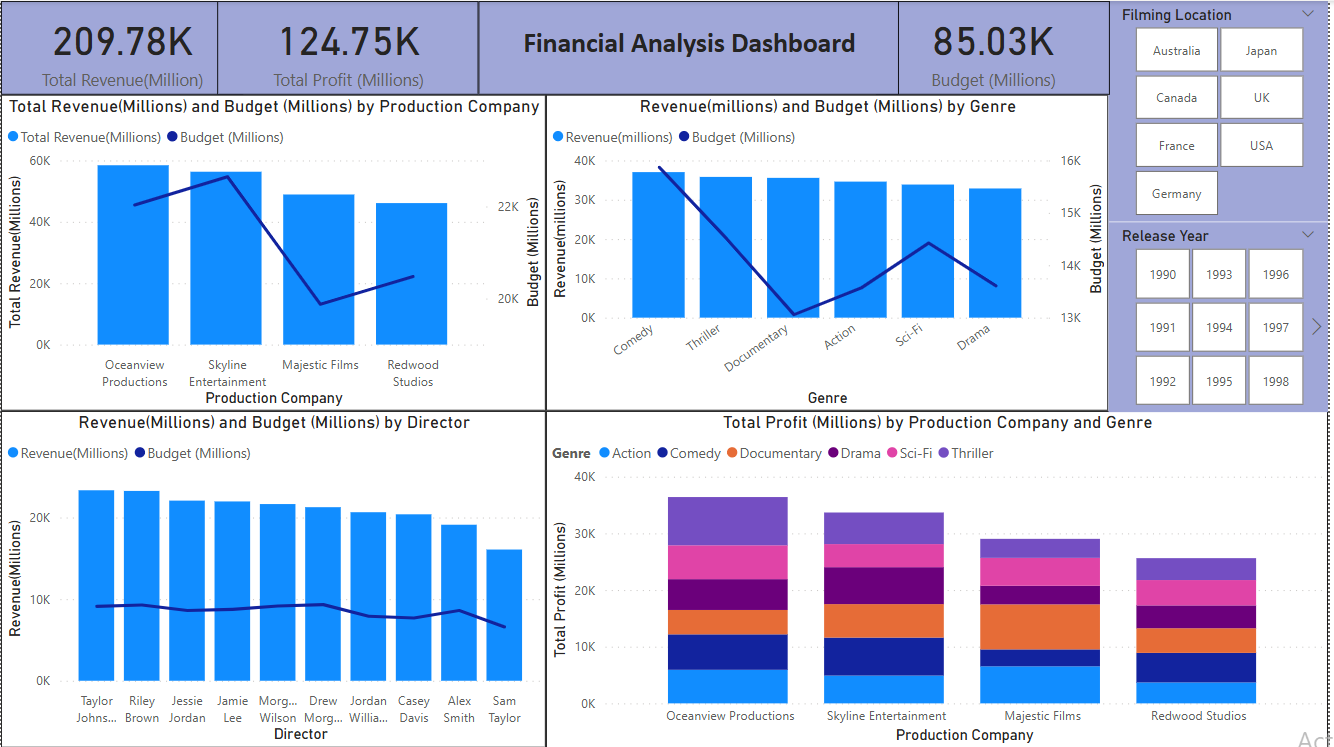

This screenshot's page, from the dashboard's own definition file:
{"tool":"powerbi","page":{"name":"Financial Analysis","canvas":[1280,720],"ordinal":1},"visuals":[{"type":"lineClusteredColumnComboChart","fields":{"Y":["merged sheet.Sheet1 (2).Worldwide Gross (Millions)"],"Category":["merged sheet.Production Company"],"Y2":["merged sheet.Budget (Millions)"]},"box":[0,90.5,525.8,305.1],"z":0},{"type":"lineStackedColumnComboChart","fields":{"Category":["merged sheet.Genre"],"Y":["merged sheet.Sheet1 (2).Worldwide Gross (Millions)"],"Y2":["merged sheet.Budget (Millions)"]},"box":[525.8,90.5,542.7,305.1],"z":1000},{"type":"lineClusteredColumnComboChart","fields":{"Category":["merged sheet.Director"],"Y2":["merged sheet.Budget (Millions)"],"Y":["merged sheet.Sheet1 (2).Worldwide Gross (Millions)"]},"box":[0,395.6,525.8,324.4],"z":2000},{"type":"columnChart","fields":{"Category":["merged sheet.Production Company"],"Series":["merged sheet.Genre"],"Y":["merged sheet.Total Profit (Millions)"]},"box":[525.8,395,754.5,325.4],"z":3000},{"type":"slicer","fields":{"Values":["merged sheet.Release Year"]},"box":[1068.6,213.1,211.7,183.3],"z":4000},{"type":"slicer","fields":{"Values":["merged sheet.Filming Location"]},"box":[1068.6,0,211.7,213.1],"z":5000},{"type":"card","fields":{"Values":["merged sheet.Total Revenue"]},"box":[0,0,233.3,90.6],"z":7000},{"type":"card","fields":{"Values":["merged sheet.Total Profit (Millions)"]},"box":[208.6,0,252.1,90.5],"z":8000},{"type":"card","fields":{"Values":["merged sheet.Budget (Millions)"]},"box":[844.2,0,225.5,90.5],"z":9000},{"type":"textbox","box":[460.7,0,405.2,90.5],"z":10000}]}

Visuals, with their boxes in screenshot pixels (x1, y1, x2, y2), scaled from the page's 1280x720 canvas onto the 1334x747 screenshot:
lineClusteredColumnComboChart - merged sheet.Sheet1 (2).Worldwide Gross (Millions) x merged sheet.Production Company: left=0, top=94, right=548, bottom=410
lineStackedColumnComboChart - merged sheet.Genre x merged sheet.Sheet1 (2).Worldwide Gross (Millions): left=548, top=94, right=1114, bottom=410
lineClusteredColumnComboChart - merged sheet.Director x merged sheet.Budget (Millions): left=0, top=410, right=548, bottom=746
columnChart - merged sheet.Production Company x merged sheet.Genre: left=548, top=410, right=1333, bottom=746
slicer - merged sheet.Release Year: left=1114, top=221, right=1333, bottom=411
slicer - merged sheet.Filming Location: left=1114, top=0, right=1333, bottom=221
card - merged sheet.Total Revenue: left=0, top=0, right=243, bottom=94
card - merged sheet.Total Profit (Millions): left=217, top=0, right=480, bottom=94
card - merged sheet.Budget (Millions): left=880, top=0, right=1115, bottom=94
textbox: left=480, top=0, right=902, bottom=94
